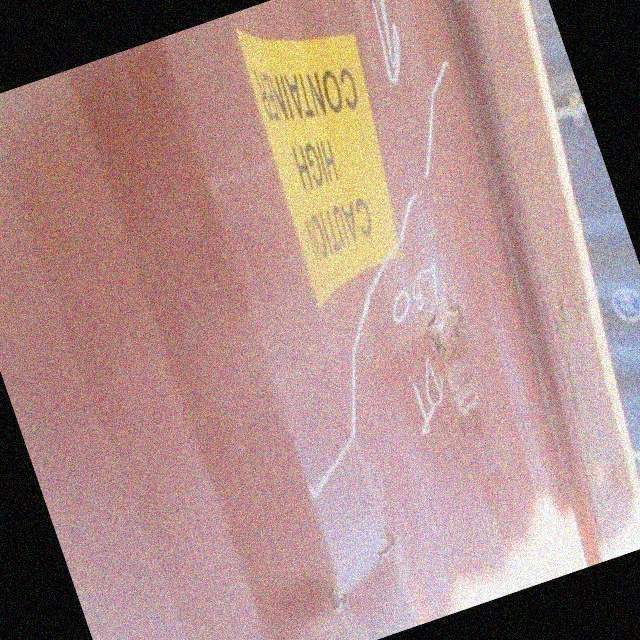Dent: (126, 131, 621, 640)
